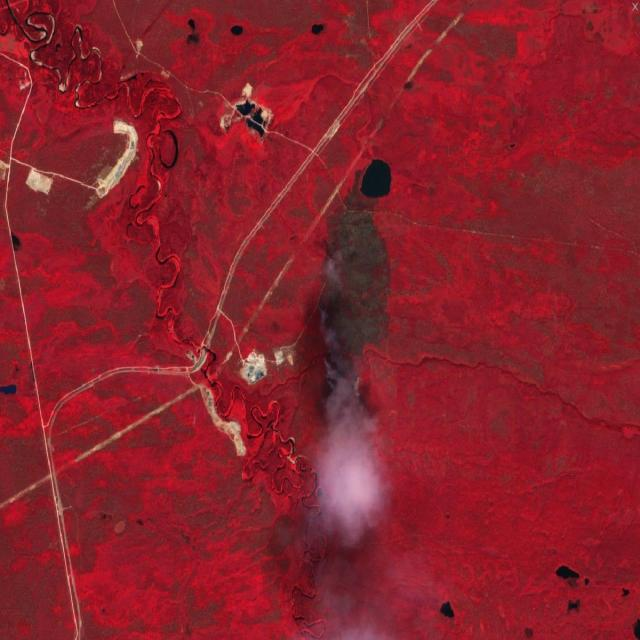fire: (313, 225, 372, 412)
